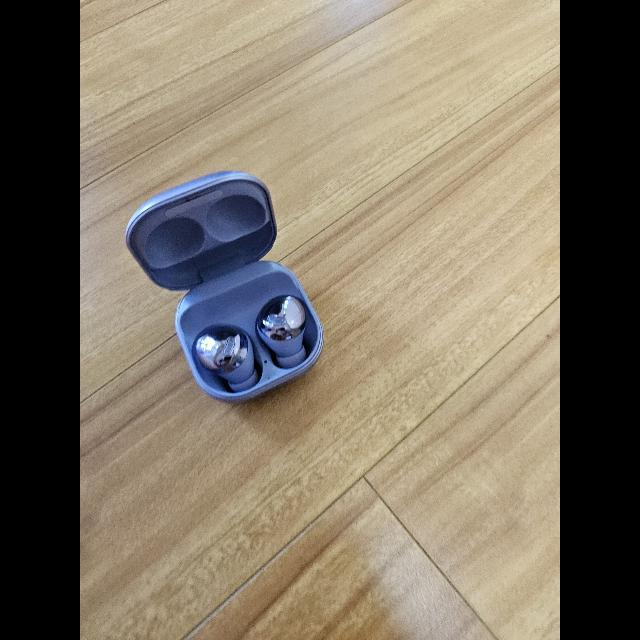buds-pro: (123, 167, 327, 407)
